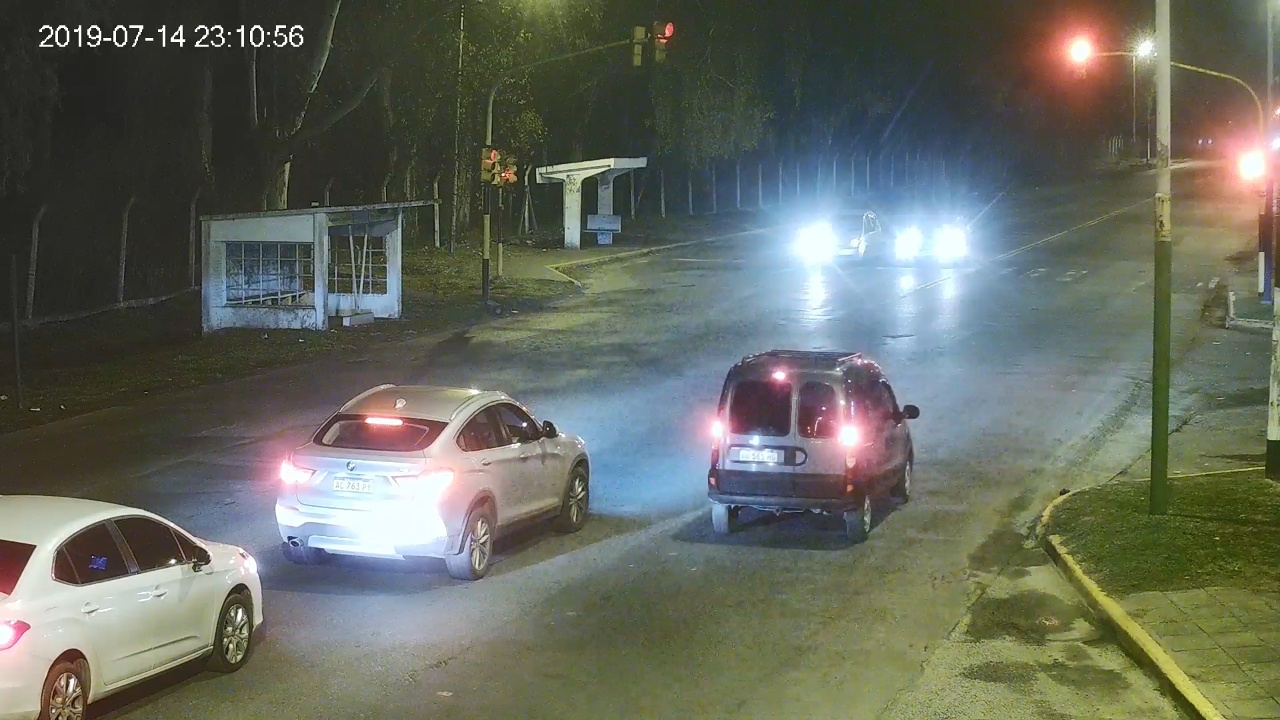car: (274, 383, 590, 580), (1, 494, 264, 720), (707, 349, 920, 541)
traffic light: (1073, 41, 1086, 78)
